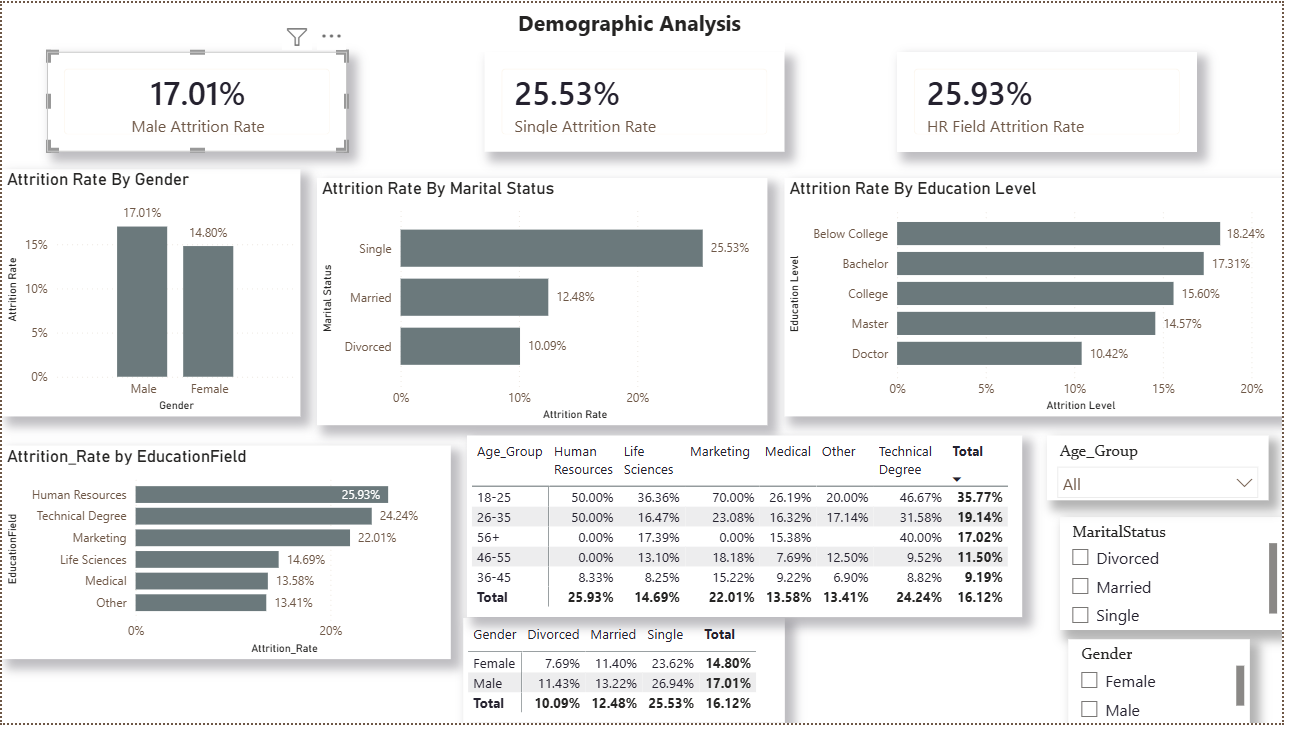

The dashboard page shown, as its layout file describes it:
{"tool":"powerbi","page":{"name":"3_Demographic_Analysis","canvas":[1280,720],"ordinal":2},"visuals":[{"type":"clusteredColumnChart","title":"Attrition Rate By Gender","fields":{"Category":["Dim_Employee.Gender"],"Y":["Fact_Attrition.Attrition_Rate"]},"box":[0,166.2,298.8,247.5],"z":0},{"type":"clusteredBarChart","title":"Attrition Rate By Marital Status","fields":{"Category":["Dim_Employee.MaritalStatus"],"Y":["Fact_Attrition.Attrition_Rate"]},"box":[315,175,450,247.5],"z":1000},{"type":"clusteredBarChart","title":"Attrition Rate By Education Level","fields":{"Category":["Dim_Edu.Education_Level"],"Y":["Fact_Attrition.Attrition_Rate"]},"box":[782.5,175,497.5,238.8],"z":2000},{"type":"clusteredBarChart","fields":{"Category":["Dim_Edu.EducationField"],"Y":["Fact_Attrition.Attrition_Rate"]},"box":[0,442.5,448.8,213.8],"z":3000},{"type":"pivotTable","fields":{"Rows":["Dim_Employee.Gender"],"Columns":["Dim_Employee.MaritalStatus"],"Values":["Fact_Attrition.Attrition_Rate"]},"box":[461.2,615,321.2,105],"z":4000},{"type":"pivotTable","fields":{"Rows":["Dim_Employee.Age_Group"],"Columns":["Dim_Edu.EducationField"],"Values":["Fact_Attrition.Attrition_Rate"]},"box":[465,432.5,555,181.2],"z":5000},{"type":"cardVisual","fields":{"Data":["Fact_Attrition.GENDER RISK"]},"box":[45,48.8,300,100],"z":6000},{"type":"slicer","fields":{"Values":["Dim_Employee.MaritalStatus"]},"box":[1057.5,513.8,222.5,113.8],"z":7000},{"type":"slicer","fields":{"Values":["Dim_Employee.Gender"]},"box":[1066.2,636.2,181.2,83.8],"z":8000},{"type":"slicer","fields":{"Values":["Dim_Employee.Age_Group"]},"box":[1045,432.5,221.2,65],"z":9000},{"type":"cardVisual","fields":{"Data":["Dim_Compensation.Single Risk"]},"box":[482.5,48.8,300,100],"z":10000},{"type":"cardVisual","fields":{"Data":["Fact_Attrition.Field Risk"]},"box":[895,48.8,300,100],"z":11000},{"type":"textbox","box":[472.5,0,310,48.8],"z":12000}]}

Visuals, with their boxes in screenshot pixels (x1, y1, x2, y2), scaled from the page's 1280x720 canvas onto the 1295x730 screenshot:
"Attrition Rate By Gender" clusteredColumnChart: select_region(0, 169, 302, 419)
"Attrition Rate By Marital Status" clusteredBarChart: select_region(319, 177, 774, 428)
"Attrition Rate By Education Level" clusteredBarChart: select_region(792, 177, 1294, 420)
clusteredBarChart - Dim_Edu.EducationField x Fact_Attrition.Attrition_Rate: select_region(0, 449, 454, 665)
pivotTable - Dim_Employee.Gender x Dim_Employee.MaritalStatus: select_region(467, 624, 792, 729)
pivotTable - Dim_Employee.Age_Group x Dim_Edu.EducationField: select_region(470, 439, 1032, 622)
cardVisual - Fact_Attrition.GENDER RISK: select_region(46, 49, 349, 151)
slicer - Dim_Employee.MaritalStatus: select_region(1070, 521, 1294, 636)
slicer - Dim_Employee.Gender: select_region(1079, 645, 1262, 729)
slicer - Dim_Employee.Age_Group: select_region(1057, 439, 1281, 504)
cardVisual - Dim_Compensation.Single Risk: select_region(488, 49, 792, 151)
cardVisual - Fact_Attrition.Field Risk: select_region(905, 49, 1209, 151)
textbox: select_region(478, 0, 792, 49)
